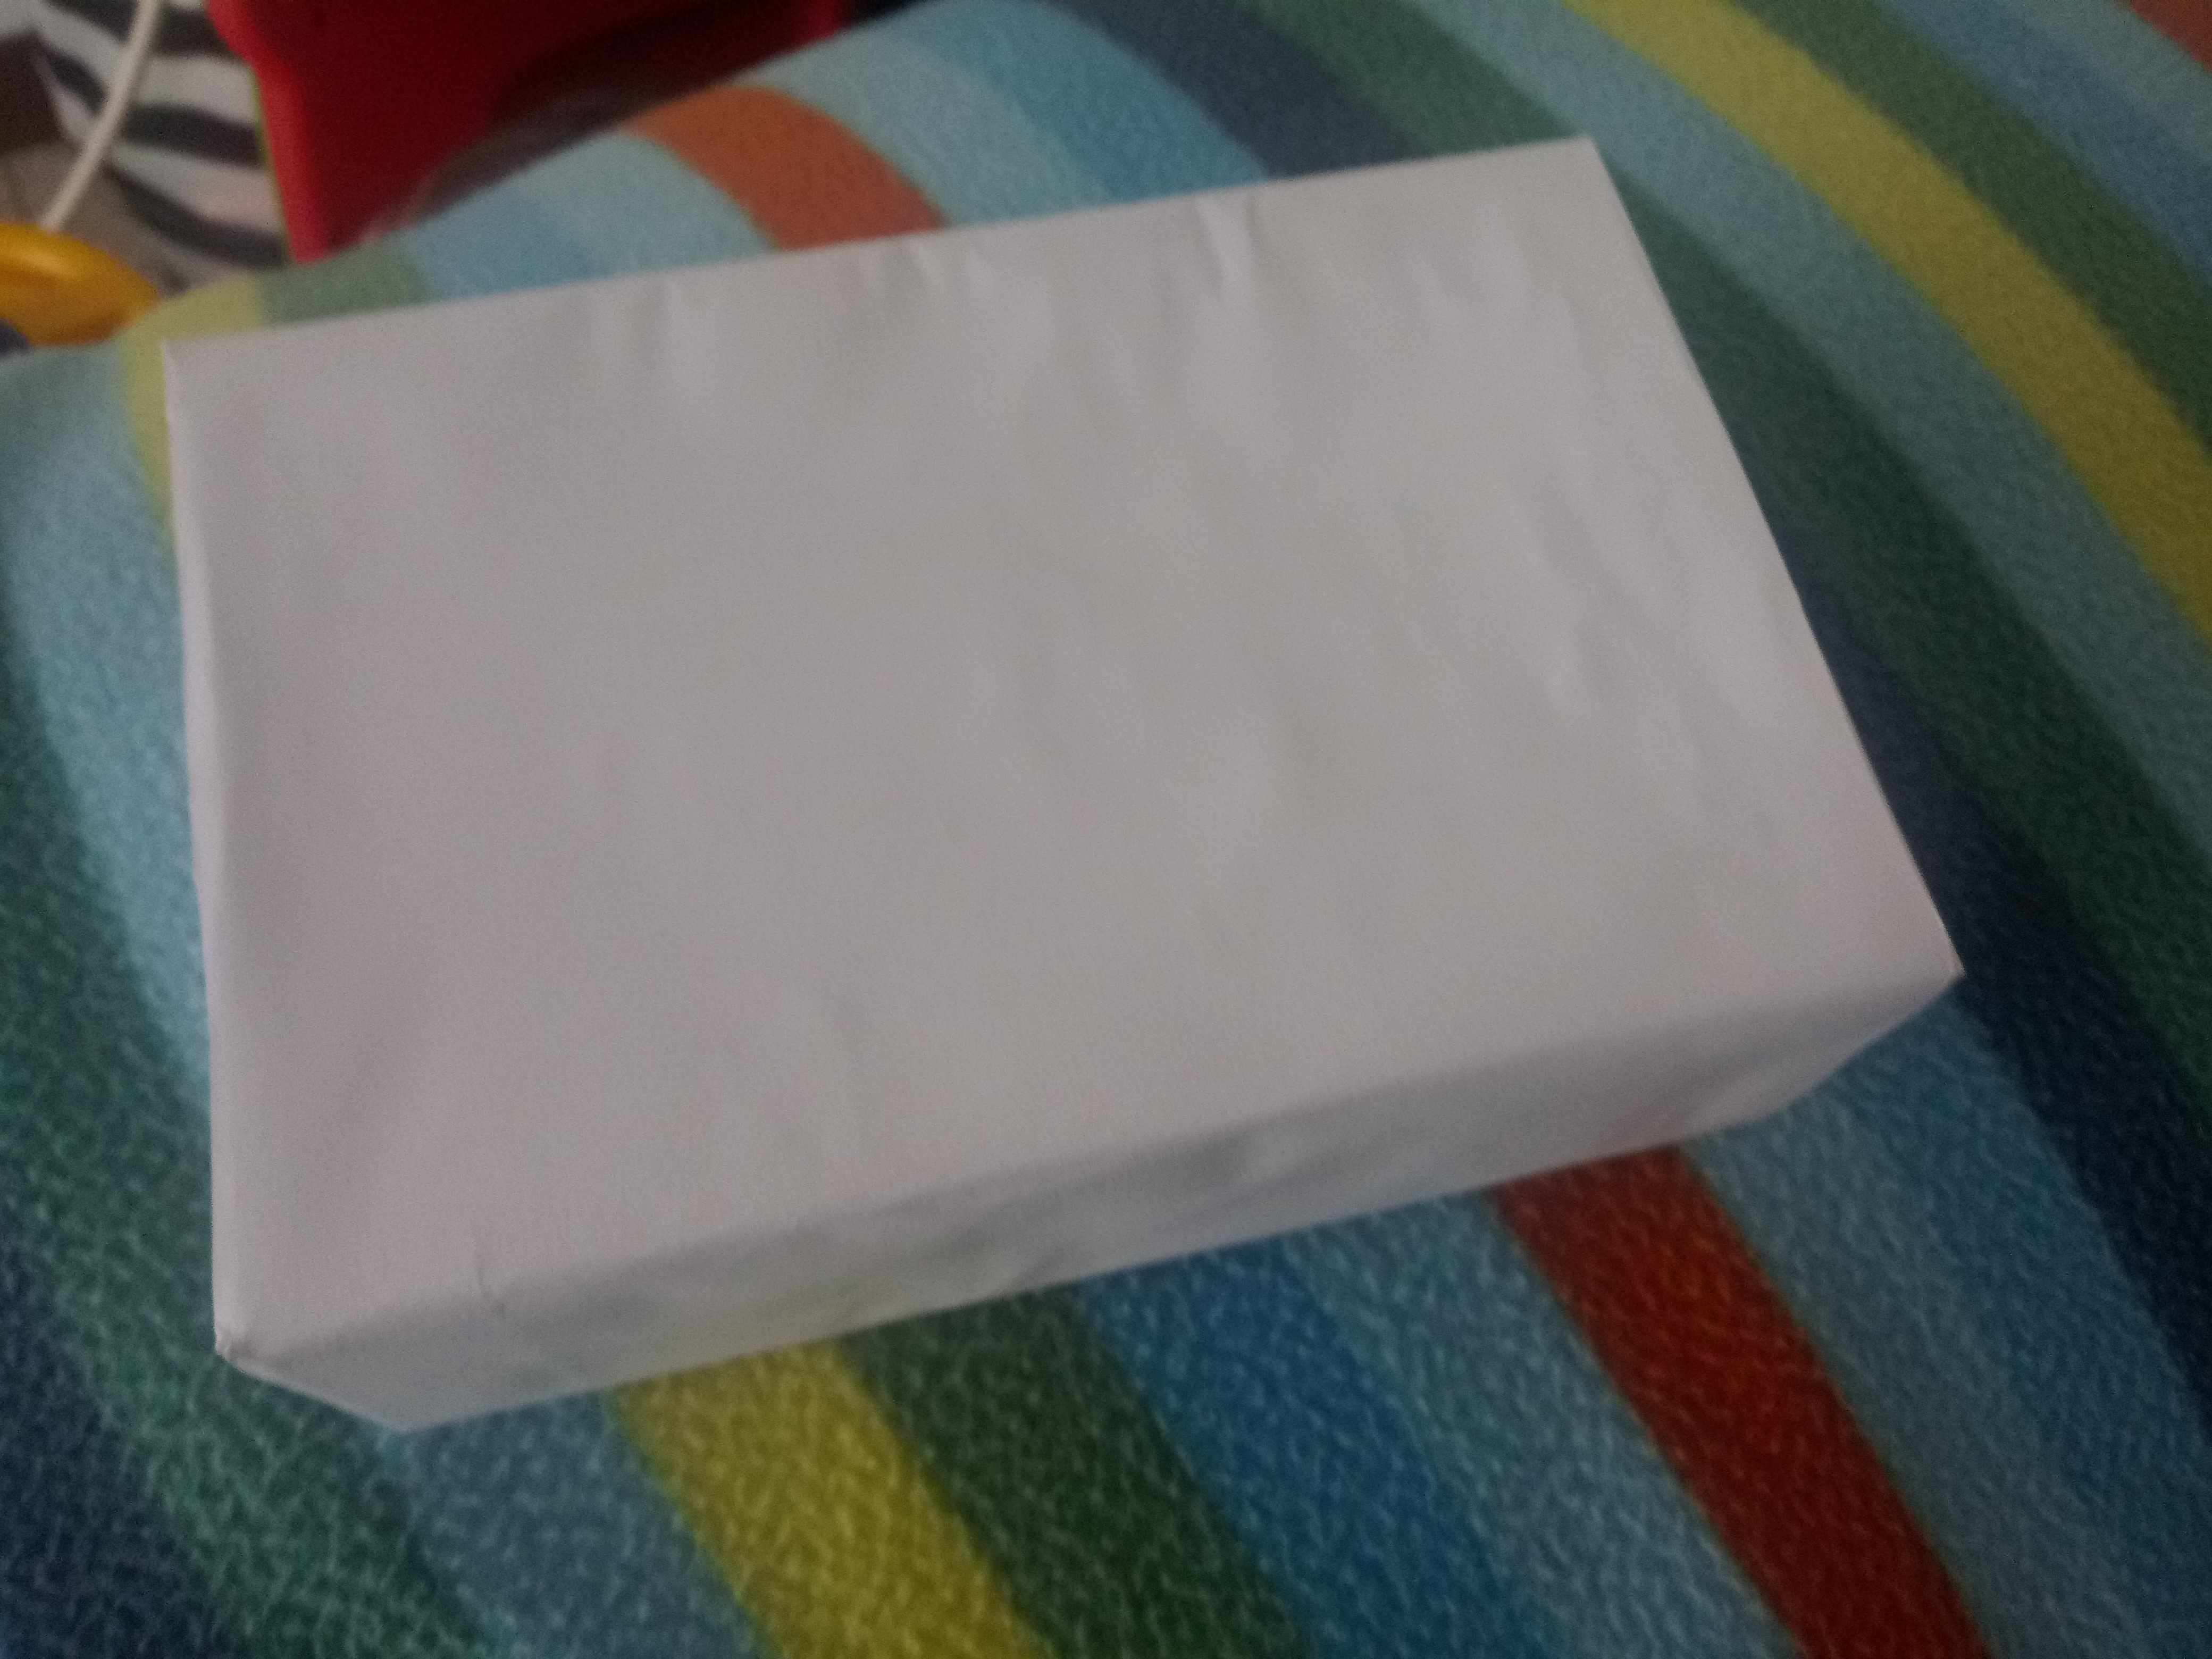white_box: (80, 117, 2001, 1488)
